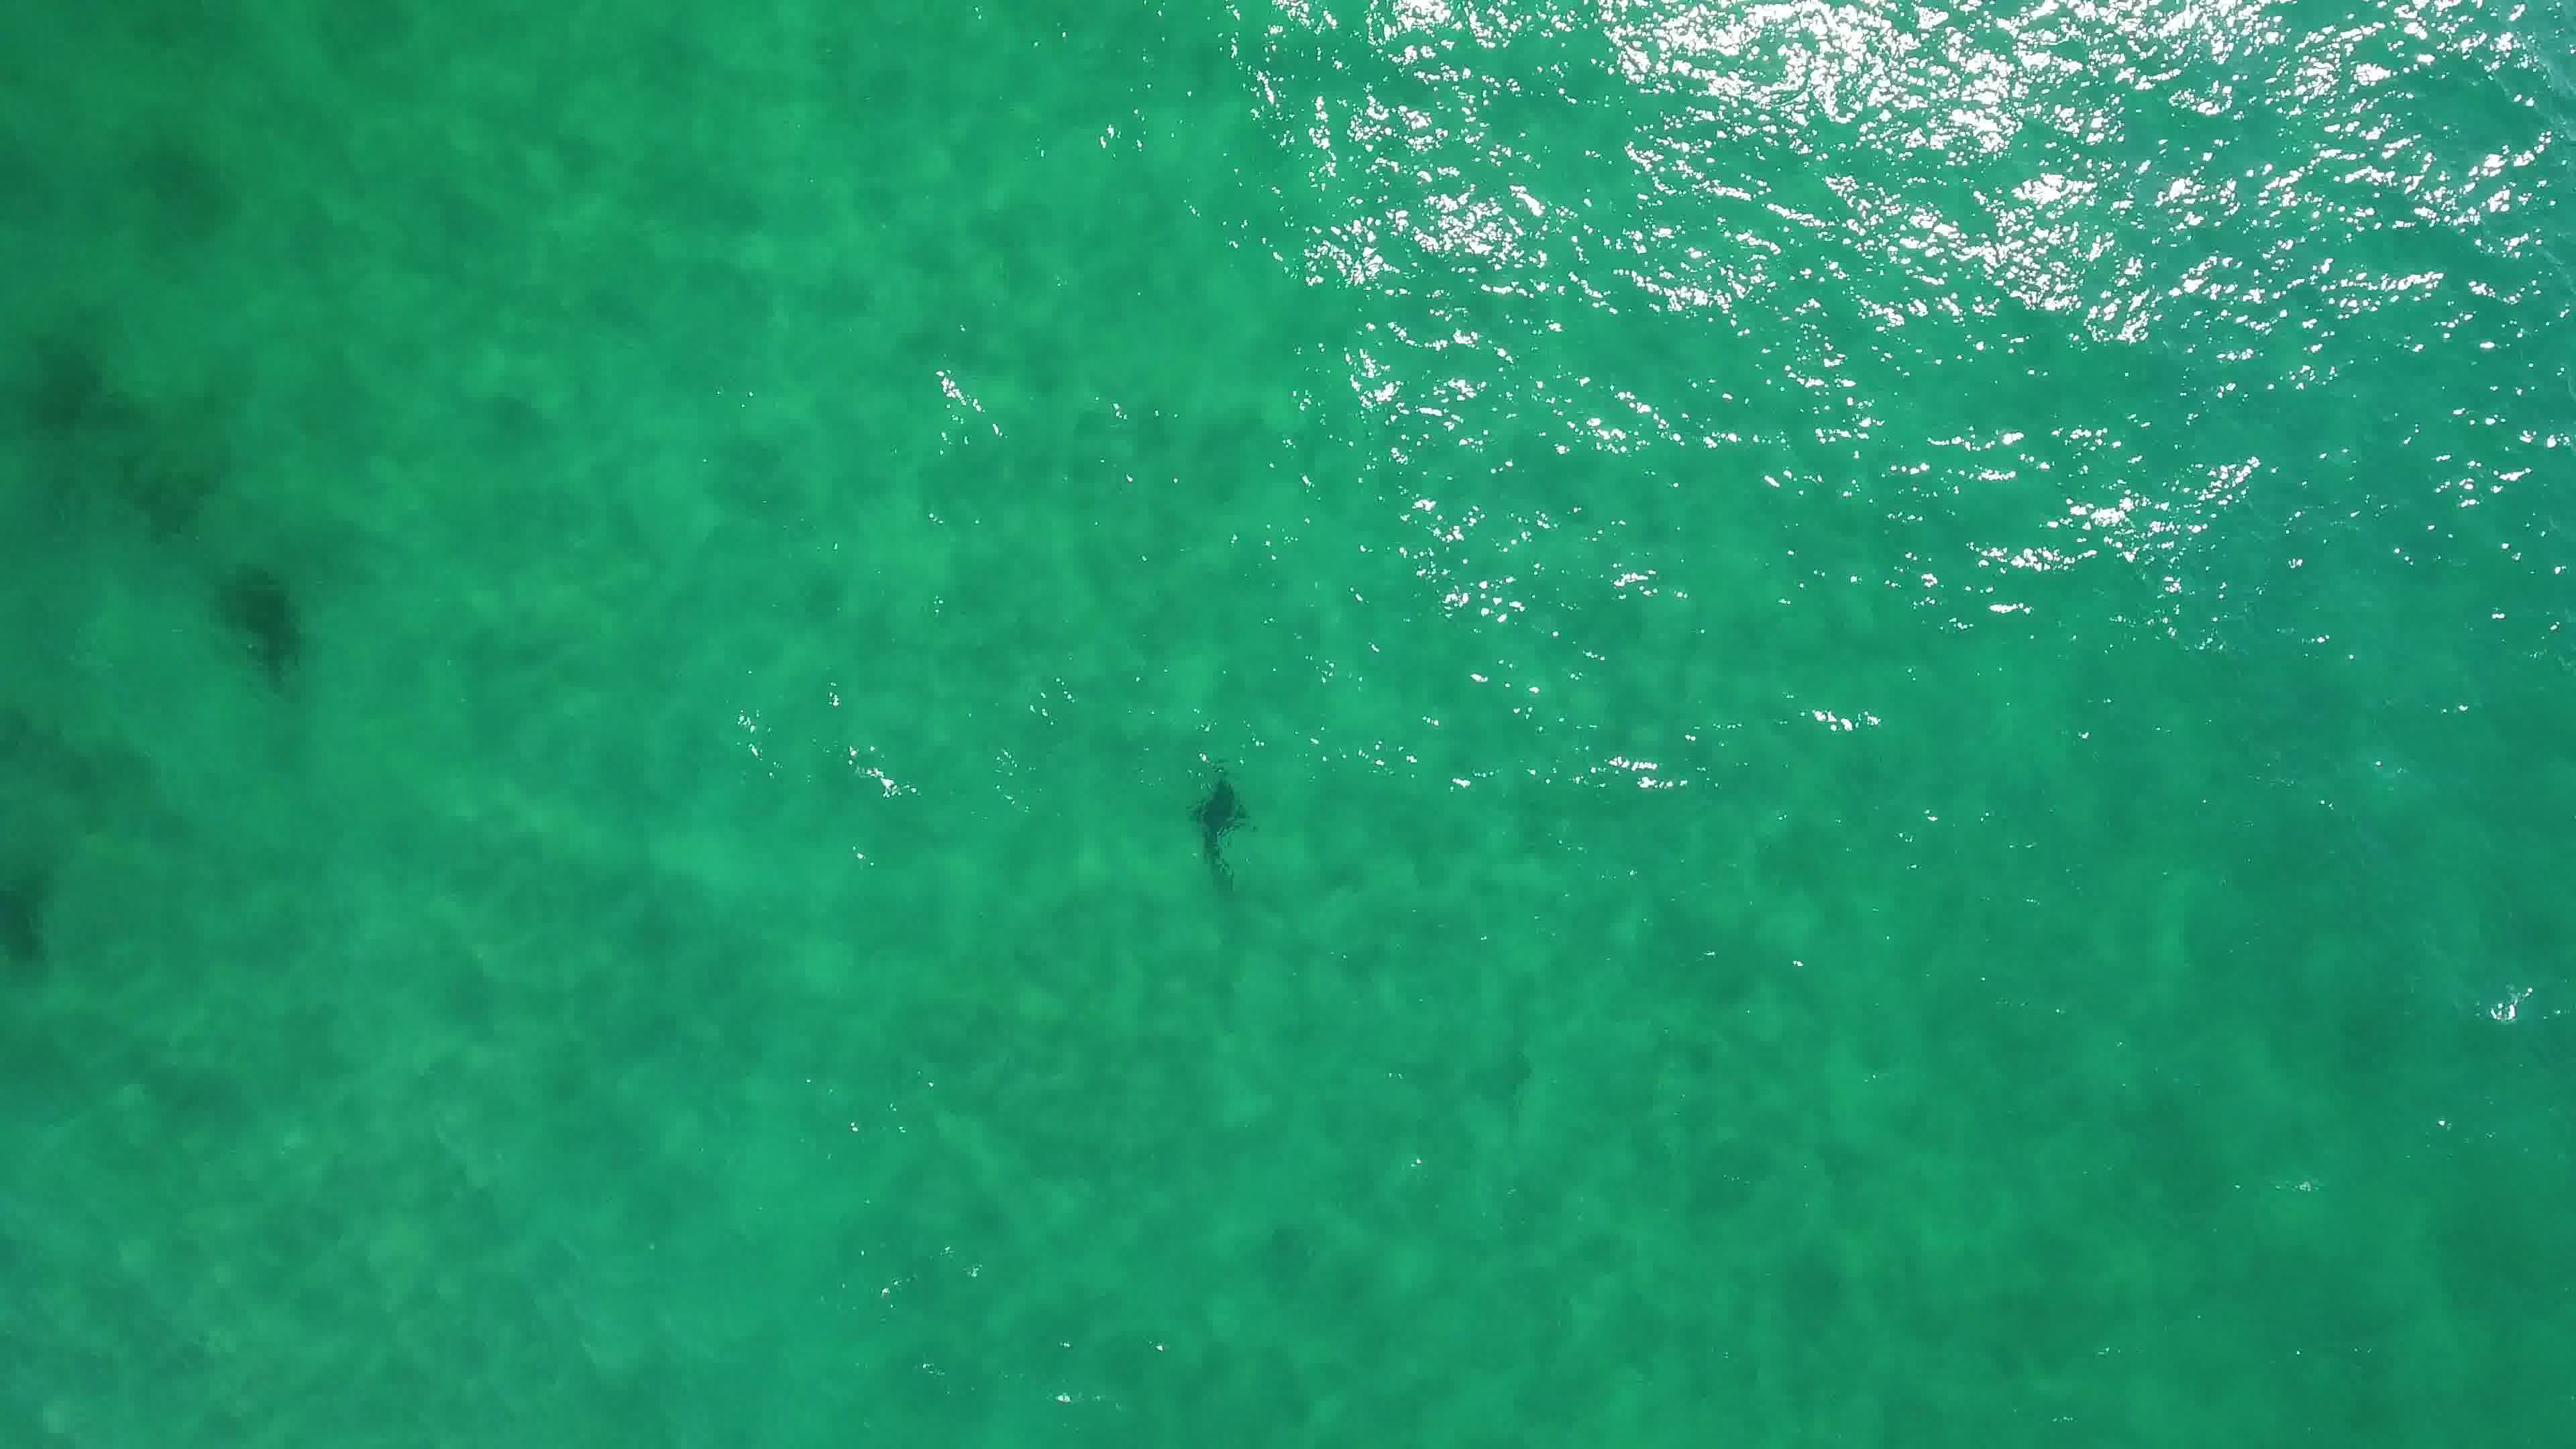shark: (1180, 773, 1263, 883)
